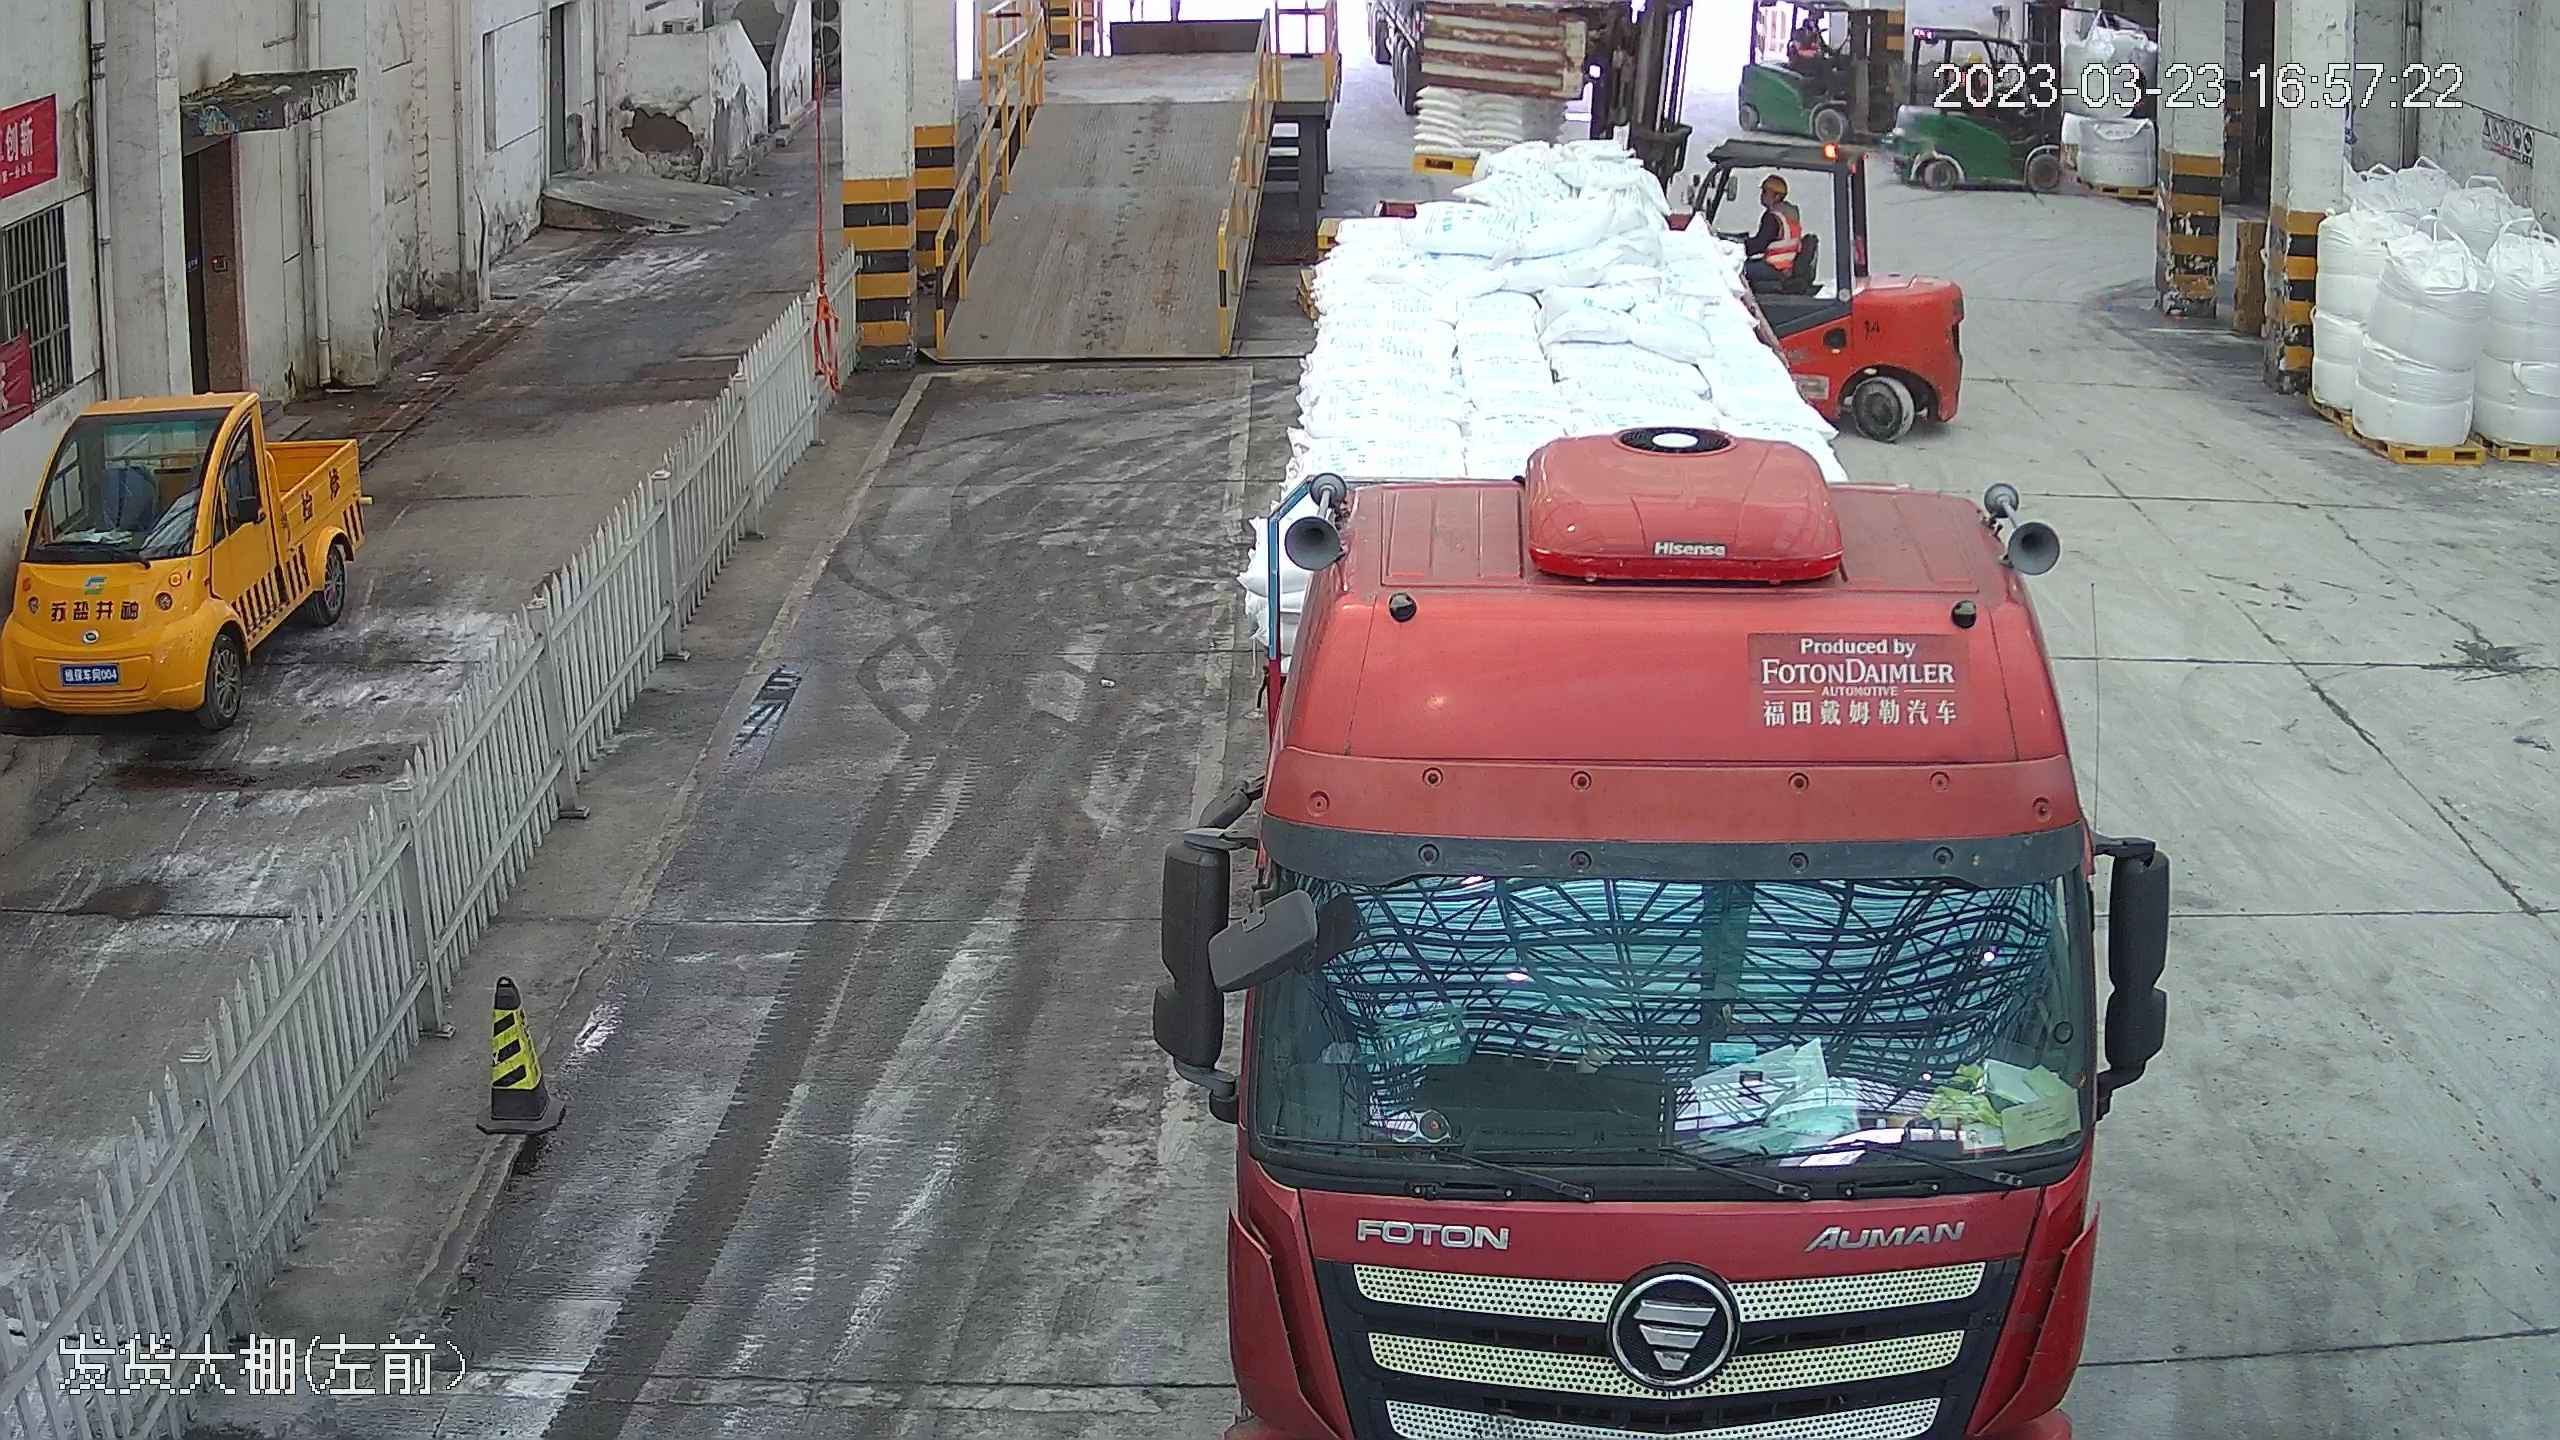head: (1756, 171, 1803, 227)
helmet: (1760, 171, 1791, 196)
people: (1740, 169, 1813, 287)
truck: (1177, 43, 2161, 1440)
